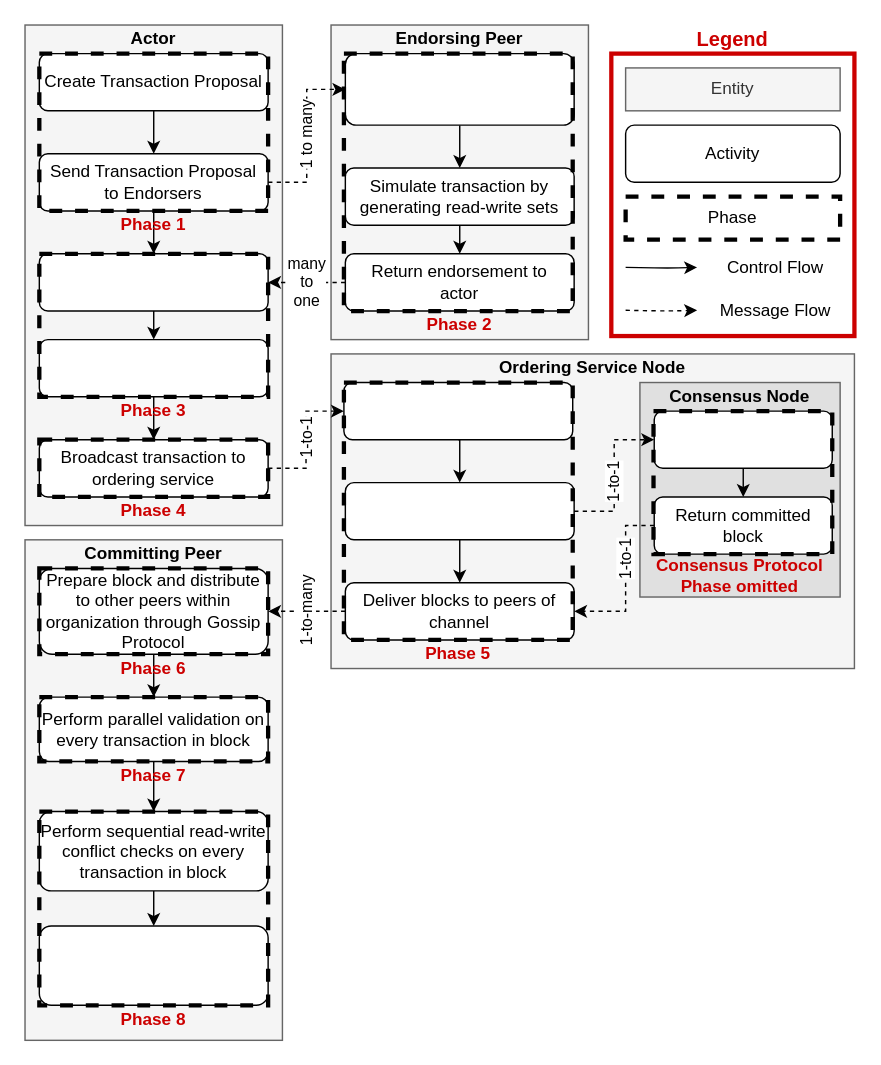
Image size: 881x1065. Some labels were removed from this diagram. The shapes that lost their labels are listed below. From the top down, each one's box as (x1, y1, x2, y2) in pixels, then its label:
(344, 52, 574, 125): Perform Access Control to check if actor may send transaction proposal
(38, 252, 268, 311): Collect endorsements from all endorsers
(38, 338, 268, 397): Create Transaction
(342, 381, 573, 440): Forward transaction to the consensus cluster leader
(653, 410, 832, 468): Establish ordering of blocks
(344, 481, 574, 540): Cut blocks
(38, 924, 268, 1005): Commit block to ledger
